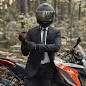helmets: (32, 1, 58, 30)
